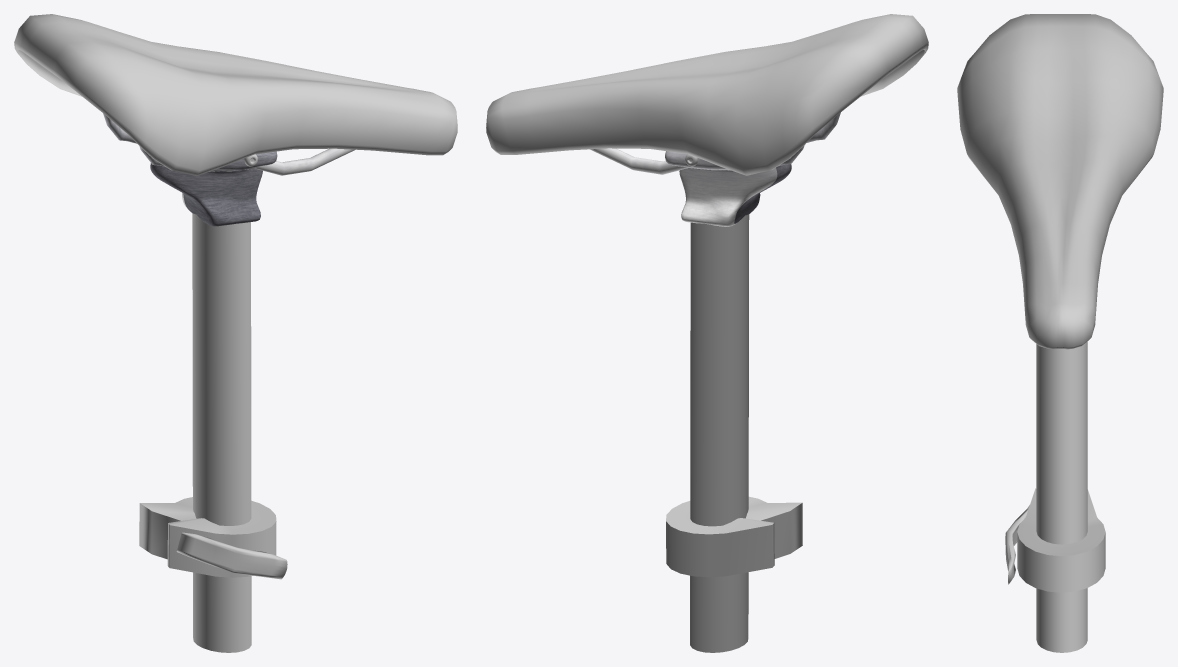
Rendered from AsBikeSup.obj.
The picture shows the model from 3 angles, left to right: view 1: azimuth 30°, elevation 25°; view 2: azimuth 150°, elevation 25°; view 3: azimuth 270°, elevation 25°; orthographic projection. The views are drawn at different scales.
Visible parts, largest first — view 1: Plane02; view 2: Plane02; view 3: Plane02.
Part boxes in pixels (left/top/right/bottom): Plane02: left=14, top=14, right=457, bottom=652; Plane02: left=486, top=14, right=928, bottom=652; Plane02: left=957, top=14, right=1163, bottom=652.
Bounding box in the file's own units: 1.46 × 2.22 × 0.745.
